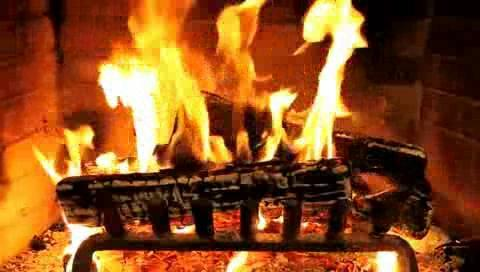fire: (91, 2, 378, 169)
